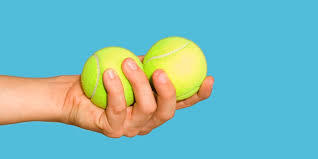Ball: (81, 45, 143, 104), (144, 37, 207, 95)
